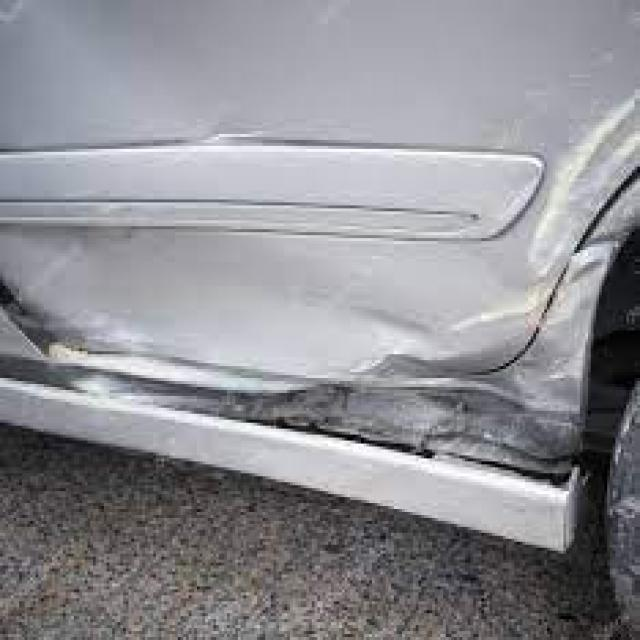damaged-door: (0, 2, 640, 513)
